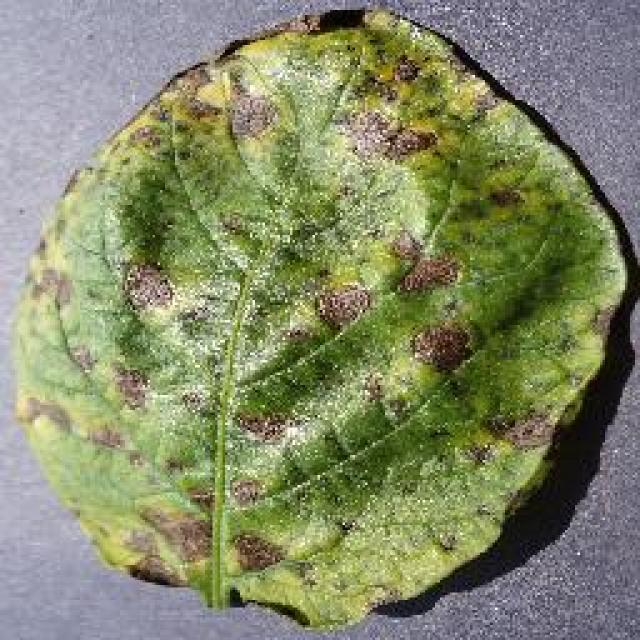early_blight: (7, 3, 635, 635)
